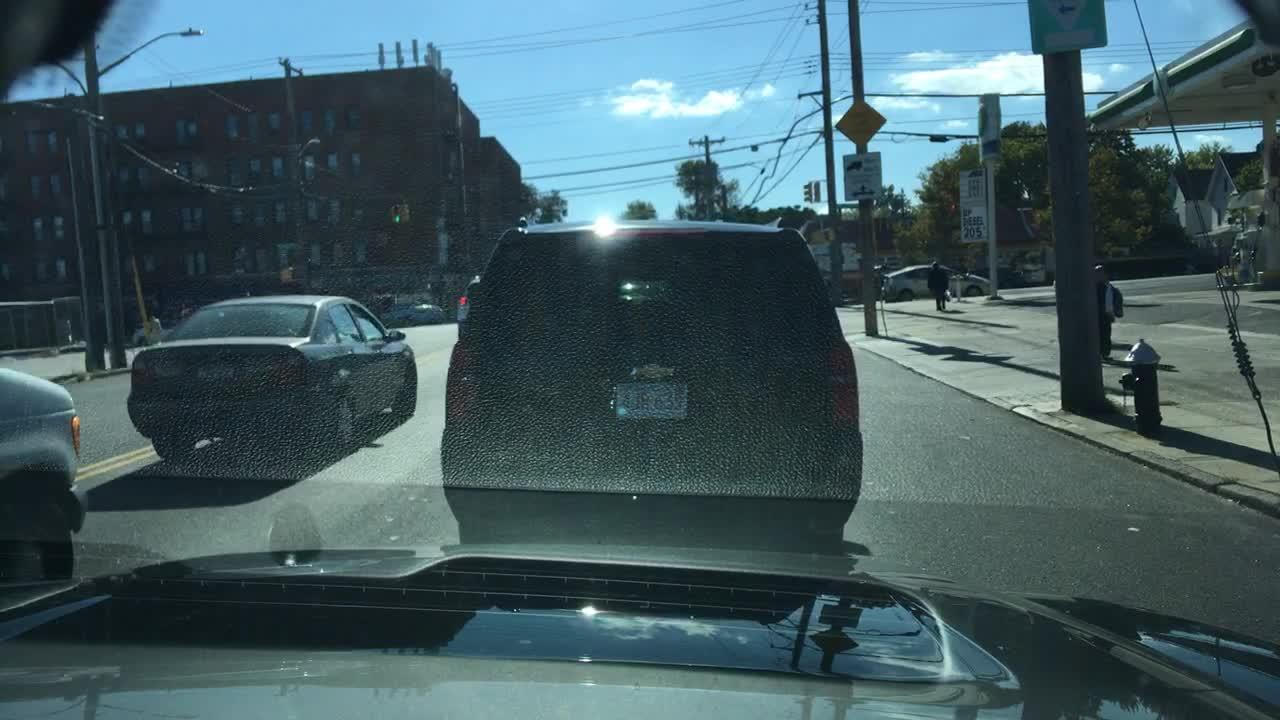chevrolet: (620, 354, 685, 387)
